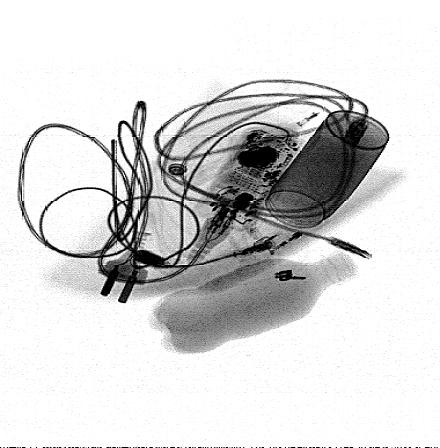Lighter: (251, 205, 334, 261)
